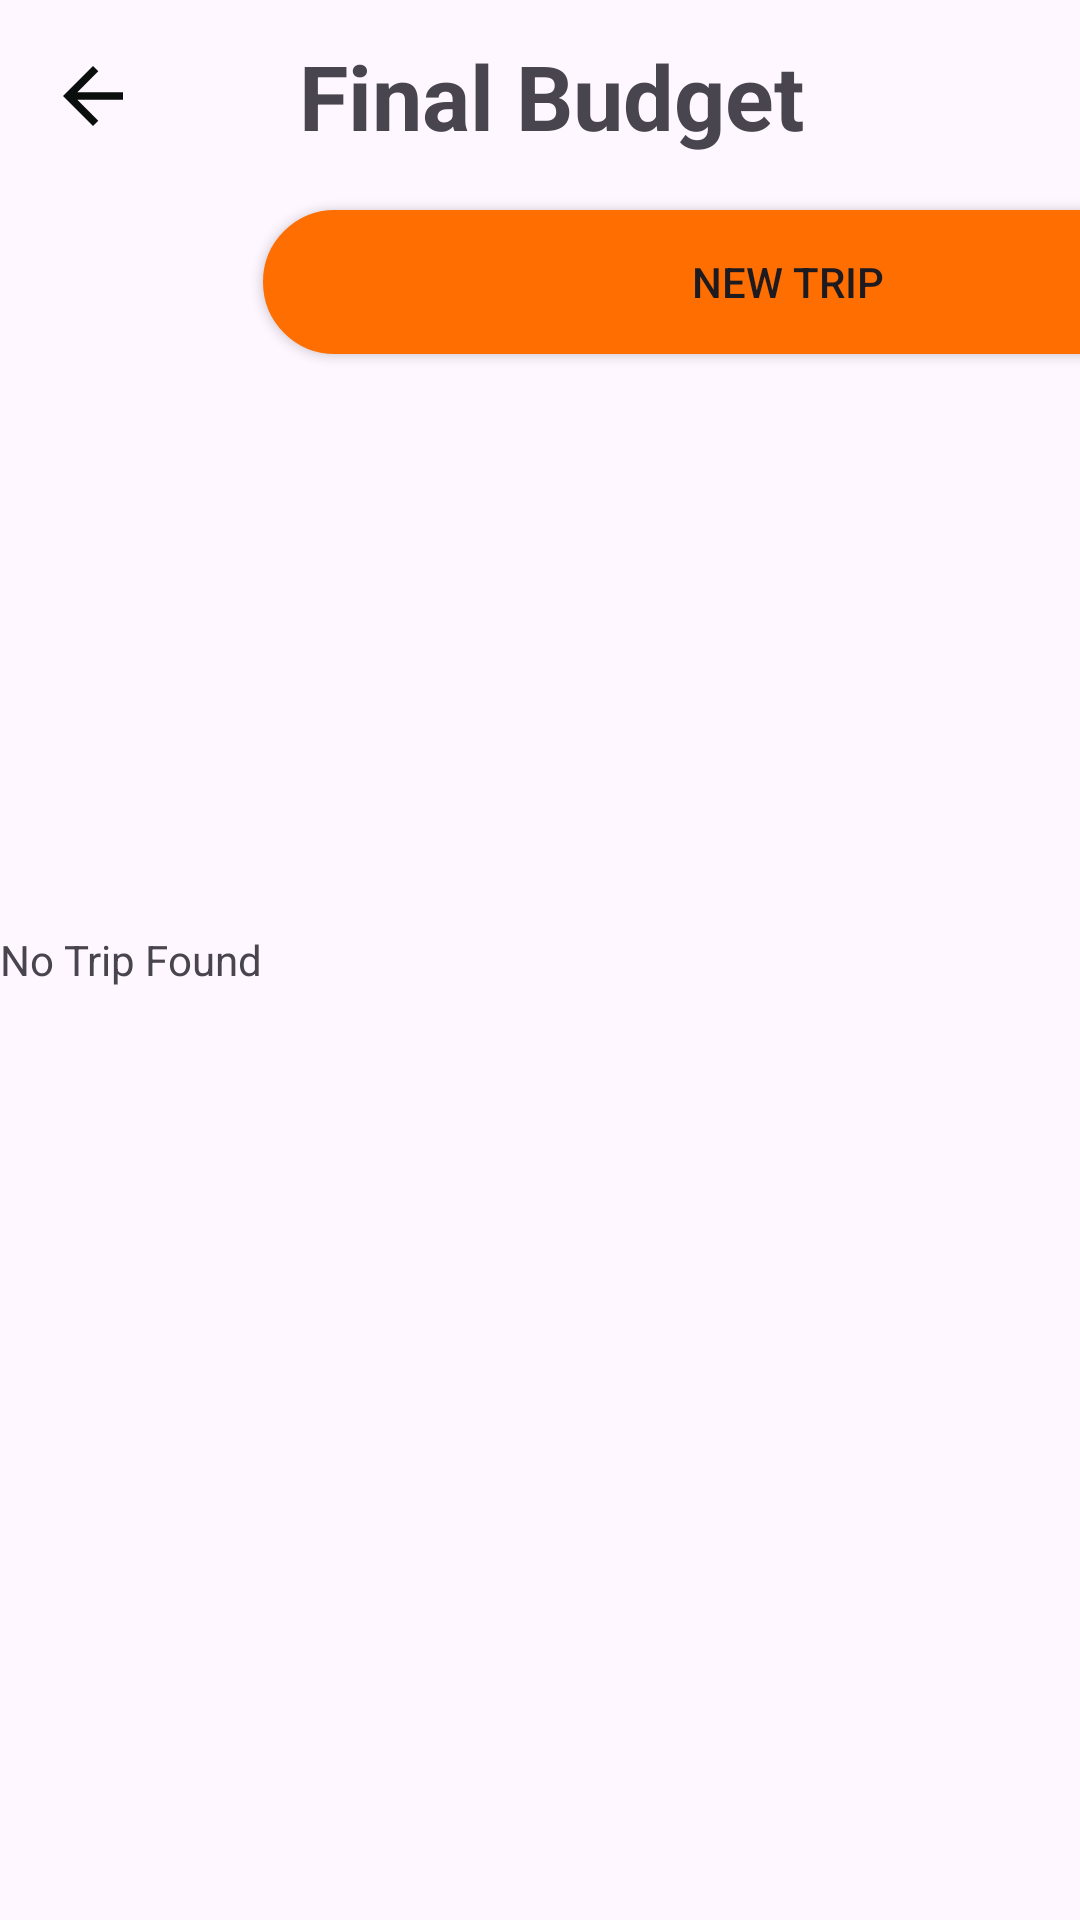

Icons on this 1080px×1920px Android screen, each with its box as (x1, y1, x2, y2):
arrow back: (63, 66, 123, 126)
